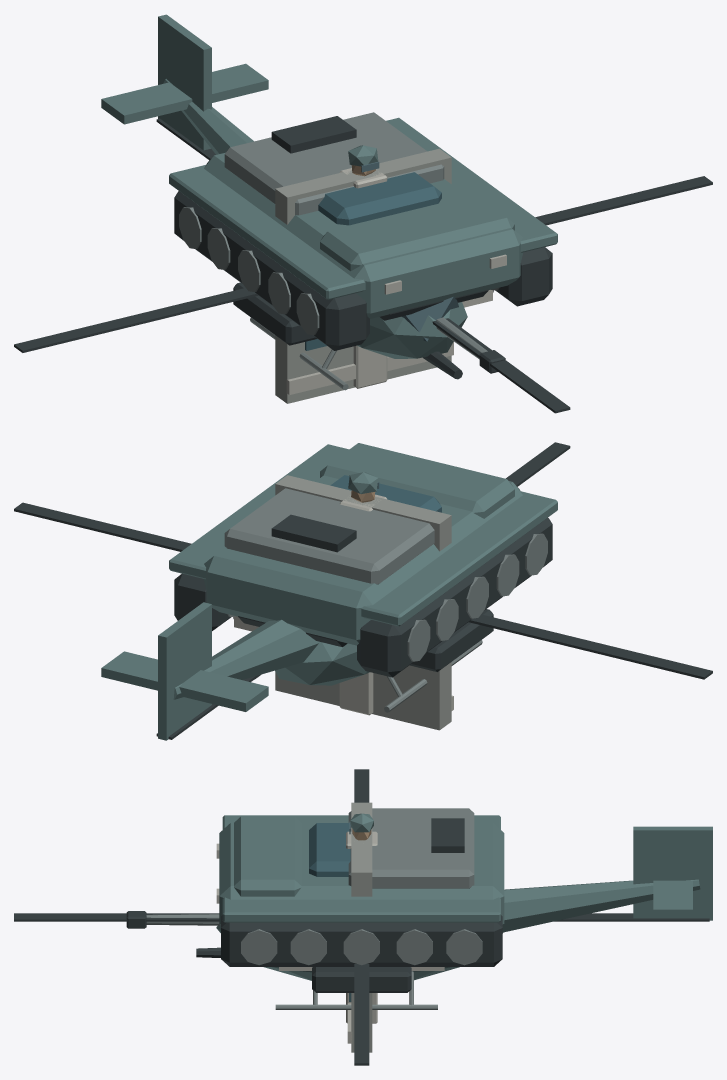
The model's file is city-kit.glb.
3 renders of one model, top to bottom at view 1: azimuth 30°, elevation 25°; view 2: azimuth 150°, elevation 25°; view 3: azimuth 270°, elevation 25°, orthographic. The views are drawn at different scales.
Visible parts, largest first — view 1: tank_hull, helicopter_body, wall_module, main_rotor, parked_car, column_module, tank_turret, infantry_torso; view 2: tank_hull, helicopter_body, wall_module, main_rotor, column_module, parked_car, infantry_torso; view 3: tank_hull, helicopter_body, main_rotor, wall_module, parked_car, tank_turret, infantry_torso.
Boxes of the visible parts, bbox=[...] form: tank_hull: bbox=[169, 112, 557, 350]; helicopter_body: bbox=[101, 14, 493, 390]; wall_module: bbox=[275, 148, 453, 403]; main_rotor: bbox=[14, 118, 712, 413]; parked_car: bbox=[318, 172, 488, 320]; column_module: bbox=[339, 168, 387, 388]; tank_turret: bbox=[436, 317, 505, 373]; infantry_torso: bbox=[348, 145, 379, 176]; tank_hull: bbox=[169, 443, 557, 677]; helicopter_body: bbox=[101, 602, 493, 740]; wall_module: bbox=[275, 475, 453, 730]; main_rotor: bbox=[14, 442, 712, 739]; column_module: bbox=[339, 494, 386, 715]; parked_car: bbox=[238, 475, 441, 647]; infantry_torso: bbox=[348, 472, 379, 502]; tank_hull: bbox=[216, 808, 504, 966]; helicopter_body: bbox=[196, 826, 712, 1009]; main_rotor: bbox=[14, 769, 709, 1065]; wall_module: bbox=[347, 802, 372, 1052]; parked_car: bbox=[309, 823, 350, 876]; tank_turret: bbox=[126, 911, 220, 928]; infantry_torso: bbox=[349, 813, 373, 840].
Size of the model in its own units: 10.5 by 3.4 by 10.55.
